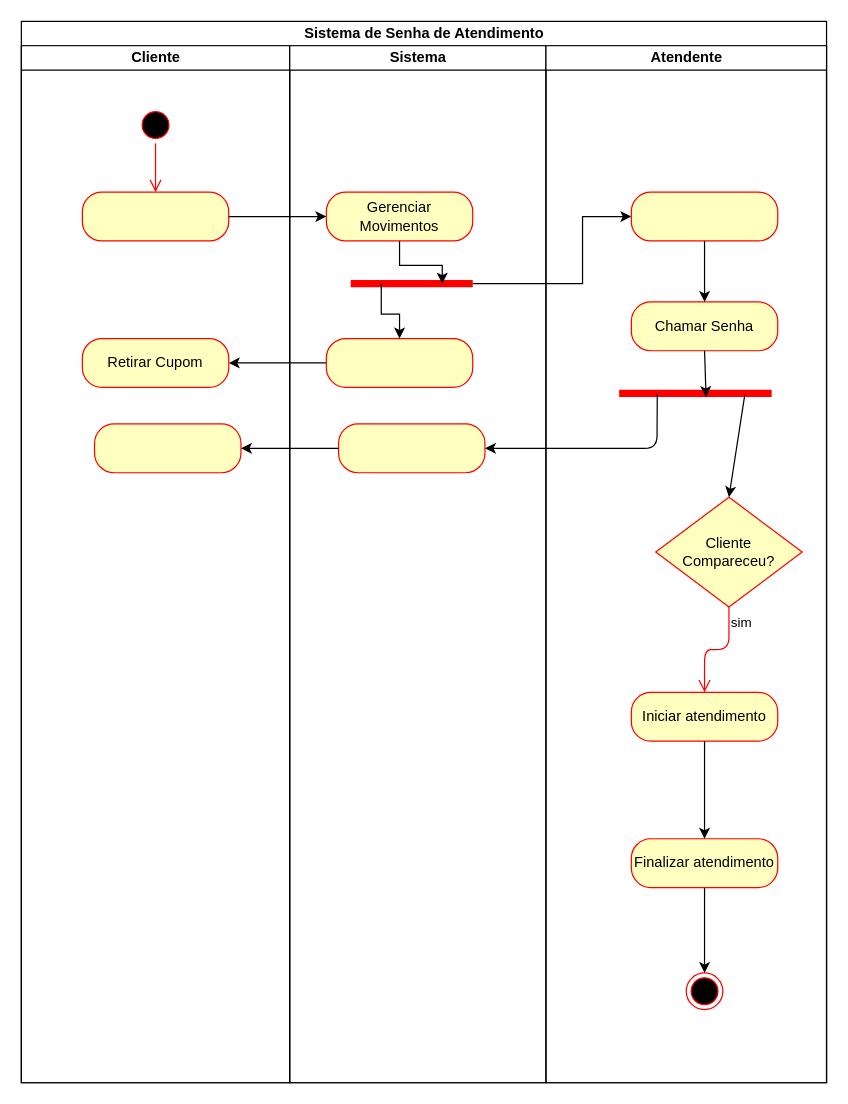
This 848x1104 diagram has some shape labels left out. The shapes that lost their labels are listed below. From the top down, each one's centre as x and y in pixels, then its label:
[155,216]: Escolher Fila
[704,216]: Exibir Senhas
[399,362]: Imprimir Cupom
[167,448]: Visualizar Painel
[411,448]: Exibir Painel
